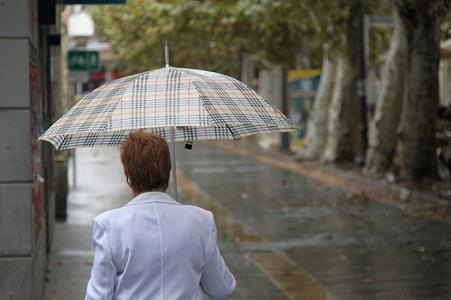person: (86, 132, 235, 300)
